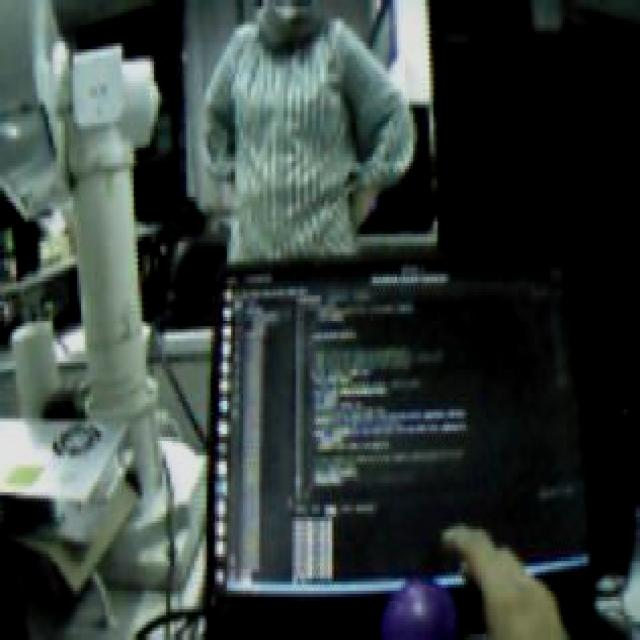BallPurple: (376, 575, 458, 640)
